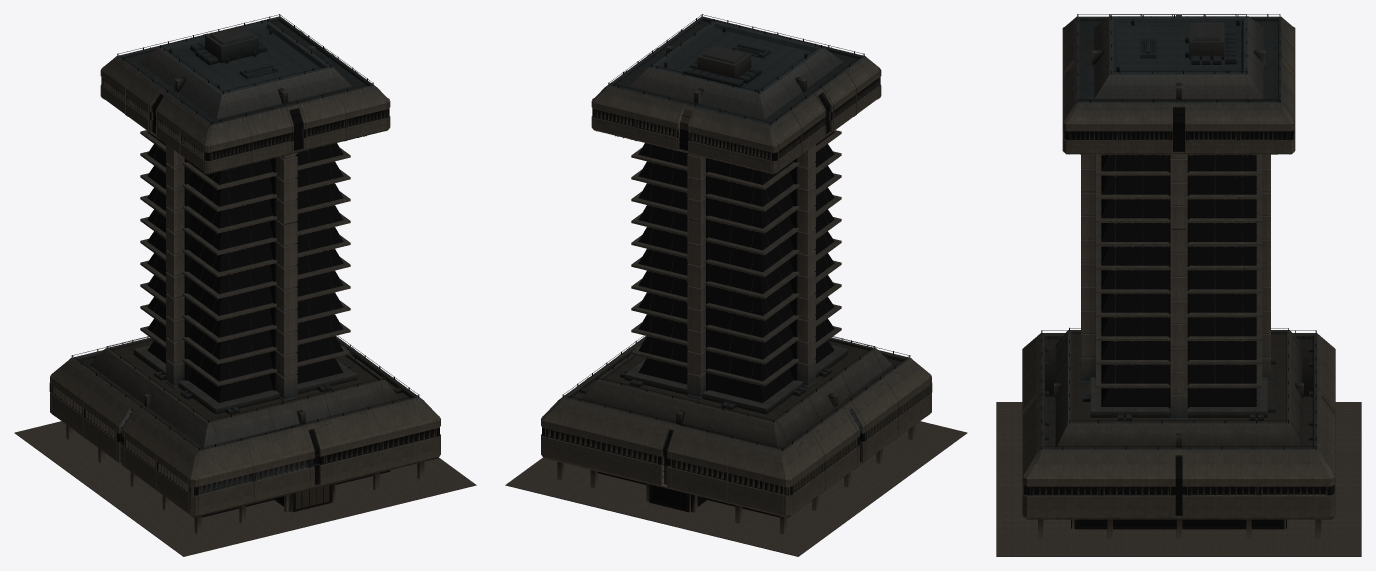
The model's file is towerL.glb.
3 renders of one model, left to right at view 1: azimuth 30°, elevation 25°; view 2: azimuth 150°, elevation 25°; view 3: azimuth 270°, elevation 25°, orthographic. The views are drawn at different scales.
Parts seen in each view (by area): view 1: towerL; view 2: towerL; view 3: towerL.
Part boxes in pixels (box(x1,y1,x2,y2)): towerL: box(14, 14, 476, 556); towerL: box(505, 14, 967, 556); towerL: box(996, 14, 1361, 556).
Bounding box in the file's own units: 45.63 × 61.93 × 45.63.
10 materials, 8 textured.
